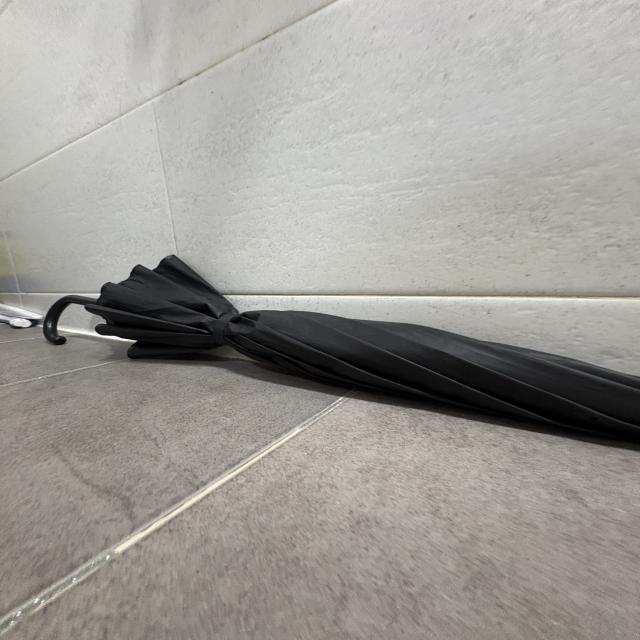umbrella: (44, 252, 640, 450)
